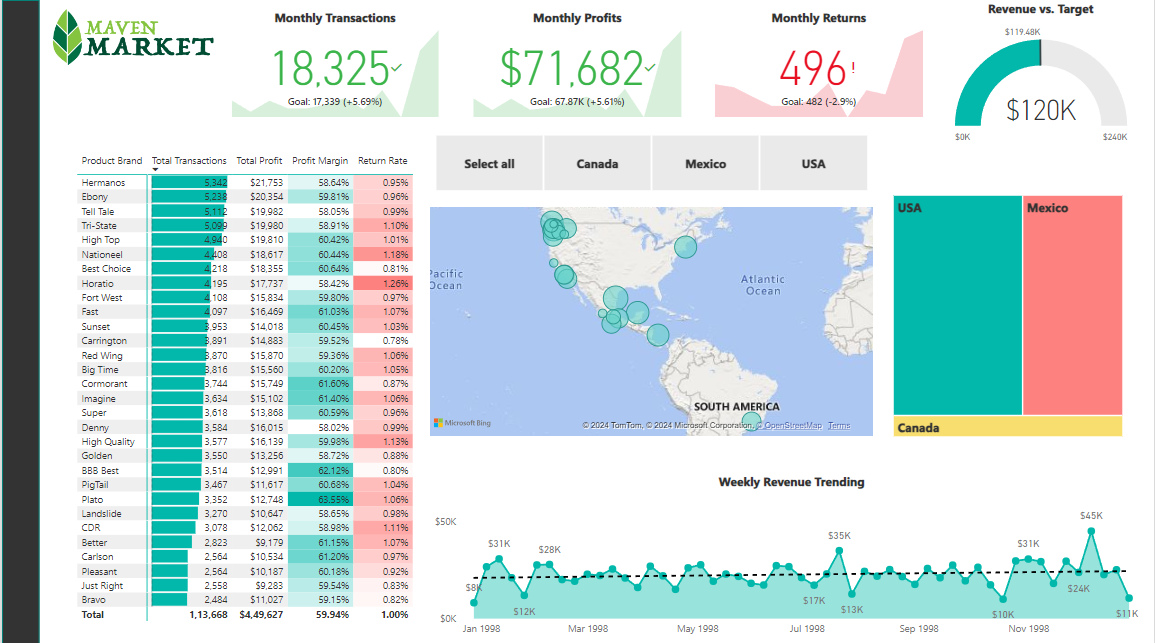

The page's visual inventory and layout, read from the dashboard file:
{"tool":"powerbi","page":{"name":"Topline Performance","canvas":[1280,720],"ordinal":0},"visuals":[{"type":"image","box":[16.7,0,256.7,81.7],"z":0},{"type":"pivotTable","fields":{"Values":["Transaction_Data.Total Transactions","Transaction_Data.Total Profit","Transaction_Data.Profit Margin","Return_Data.Return Rate"],"Rows":["Products.product_brand"]},"box":[78.2,164.7,391.1,534.2],"z":1000},{"type":"kpi","title":"Monthly Transactions","fields":{"TrendLine":["Calendar.Start of Month"],"Goal":["Transaction_Data.Last Month Transactions"],"Indicator":["Transaction_Data.Total Transactions"]},"box":[250,10,240,125],"z":2000},{"type":"kpi","title":"Monthly Profits","fields":{"TrendLine":["Calendar.Start of Month"],"Goal":["Transaction_Data.Last Month Profit"],"Indicator":["Transaction_Data.Total Profit"]},"box":[517.5,10,241.7,125],"z":3000},{"type":"kpi","title":"Monthly Returns","fields":{"TrendLine":["Calendar.Start of Month"],"Goal":["Return_Data.Last Month Returns"],"Indicator":["Return_Data.Total Returns"]},"box":[786.7,10,241.7,125],"z":4000},{"type":"map","fields":{"Category":["Stores.store_city"],"Size":["Transaction_Data.Total Transactions"]},"box":[469.3,224.7,502.6,264.6],"z":5000},{"type":"areaChart","title":"Weekly Revenue Trending","fields":{"Category":["Calendar.Start of Week"],"Y":["Transaction_Data.Total Revenue"]},"box":[475,525,805,190],"z":6000},{"type":"gauge","title":"Revenue vs. Target","fields":{"Y":["Transaction_Data.Total Revenue"],"TargetValue":["Transaction_Data.Revenue Target"]},"box":[1028.3,0,251.7,165],"z":7000},{"type":"treemap","fields":{"Group":["Stores.store_country","Stores.store_state","Stores.store_city"],"Values":["Transaction_Data.Total Transactions"]},"box":[985,211.7,265,278.3],"z":8000},{"type":"shape","box":[0,0,41.7,716.7],"z":9000},{"type":"slicer","fields":{"Values":["Stores.store_country"]},"box":[456.7,143.3,528.3,75],"z":10000}]}

Visuals, with their boxes in screenshot pixels (x1, y1, x2, y2), scaled from the page's 1280x720 canvas onto the 1155x643 screenshot:
image: {"left": 15, "top": 0, "right": 247, "bottom": 73}
pivotTable - Transaction_Data.Total Transactions x Transaction_Data.Total Profit: {"left": 71, "top": 147, "right": 423, "bottom": 624}
"Monthly Transactions" kpi: {"left": 226, "top": 9, "right": 442, "bottom": 121}
"Monthly Profits" kpi: {"left": 467, "top": 9, "right": 685, "bottom": 121}
"Monthly Returns" kpi: {"left": 710, "top": 9, "right": 928, "bottom": 121}
map - Stores.store_city x Transaction_Data.Total Transactions: {"left": 423, "top": 201, "right": 877, "bottom": 437}
"Weekly Revenue Trending" areaChart: {"left": 429, "top": 469, "right": 1154, "bottom": 639}
"Revenue vs. Target" gauge: {"left": 928, "top": 0, "right": 1154, "bottom": 147}
treemap - Stores.store_country x Stores.store_state: {"left": 889, "top": 189, "right": 1128, "bottom": 438}
shape: {"left": 0, "top": 0, "right": 38, "bottom": 640}
slicer - Stores.store_country: {"left": 412, "top": 128, "right": 889, "bottom": 195}
